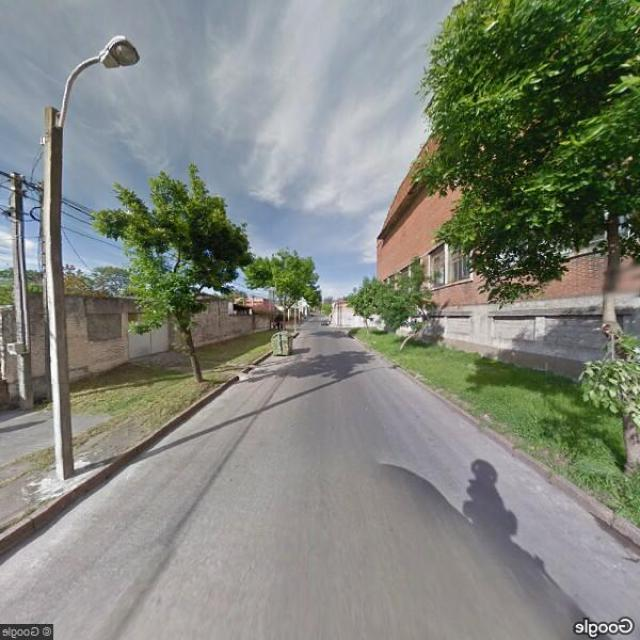garbage container: (266, 328, 298, 360)
